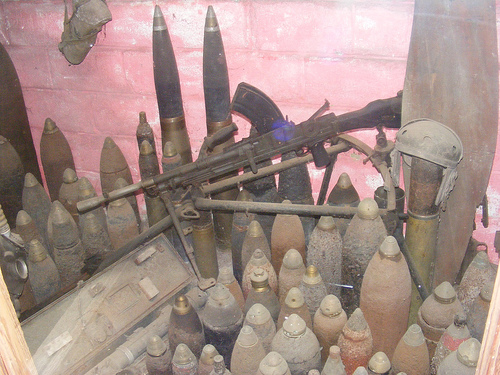rifle: (140, 3, 251, 231)
